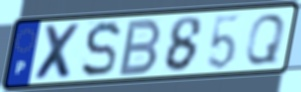5: (205, 12, 242, 70)
8: (164, 15, 204, 74)
B: (116, 16, 164, 78)
Q: (243, 12, 288, 66)
S: (79, 19, 122, 80)
X: (32, 22, 84, 82)
